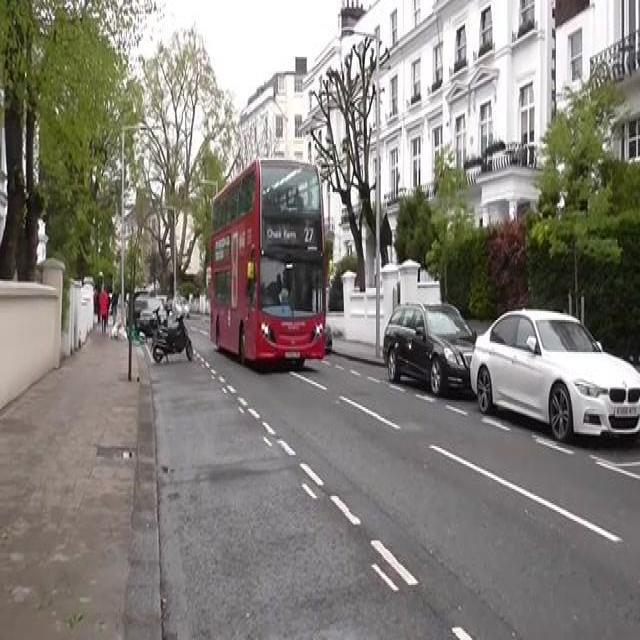motorcycle: (206, 157, 337, 375)
